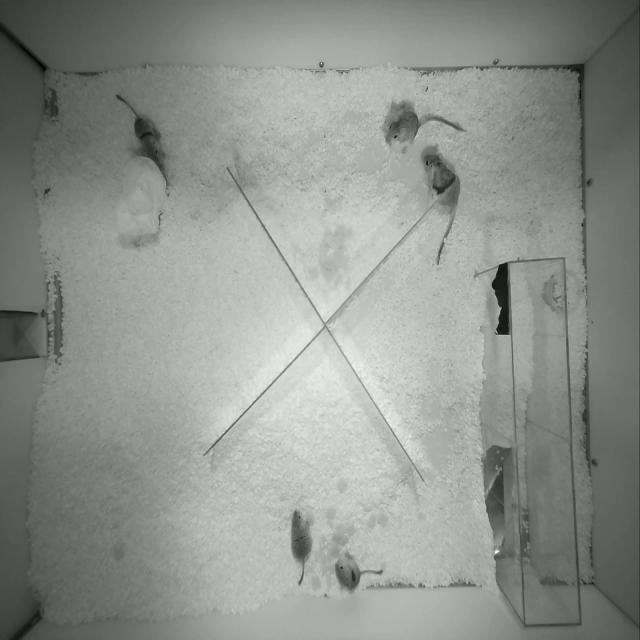adult_back: (386, 110, 466, 152)
adult_front: (422, 151, 460, 263)
pup_fluffy: (291, 509, 312, 585)
pup_h_stripe: (116, 94, 164, 174)
pup_spotted: (335, 551, 383, 591)
